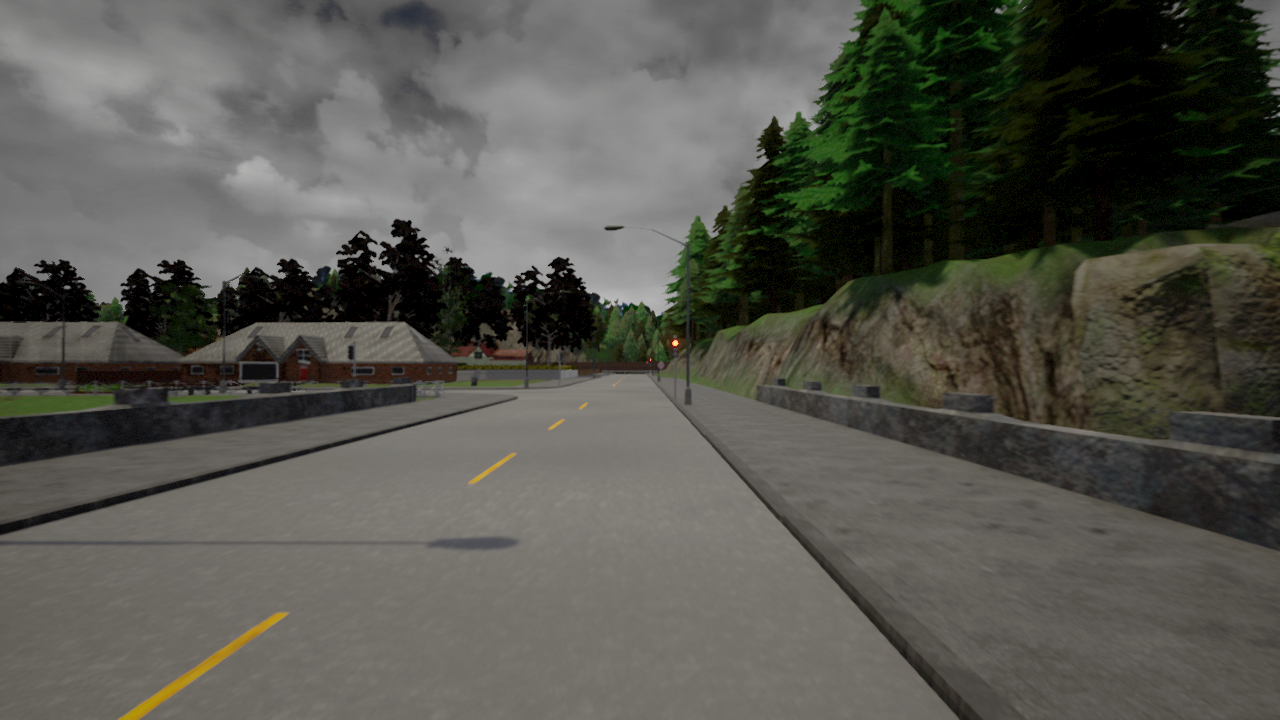red: (671, 339, 679, 360)
